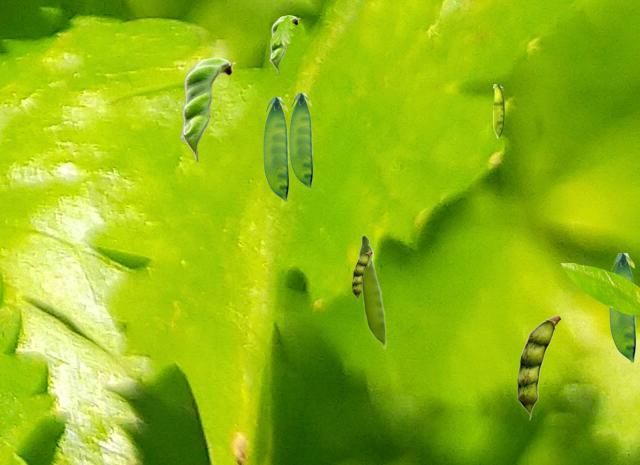pea: (180, 57, 235, 161), (517, 315, 560, 419), (358, 234, 386, 348), (609, 253, 634, 362), (263, 97, 287, 201), (289, 93, 311, 188), (269, 15, 299, 73), (352, 251, 371, 300), (493, 84, 503, 137)
